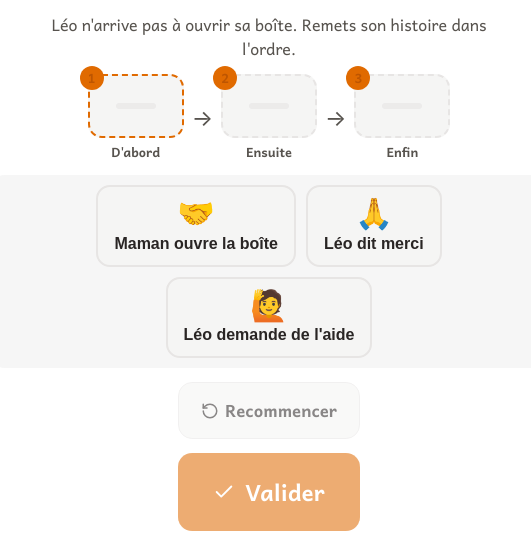
Test: <RemiseEnOrdre> › 5 : Valider reste desactive tant qu'une case est vide
The width and height of the screenshot is (531, 548).
Expected: the button "Valider" is disabled, [178,453,360,531]
What coordinates should you click on to do the following:
click the button "🙋 Léo demande de l'aide"
I would click on:
 (269, 318)
Its box is [166,277,372,358].
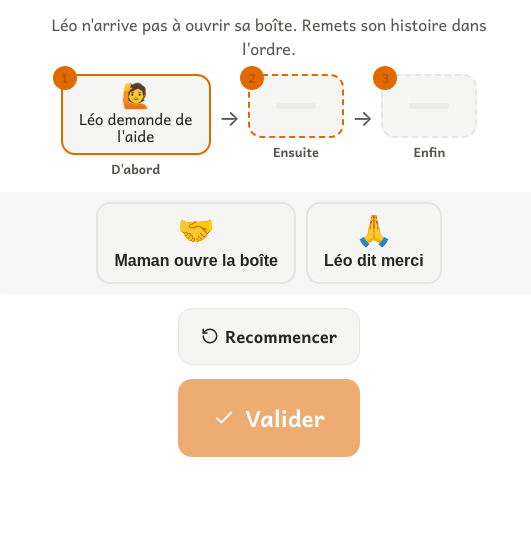
What coordinates should you click on to do the following:
click the button "🤝 Maman ouvre la boîte"
I would click on:
 (196, 243)
Its box is [96,202,296,284].
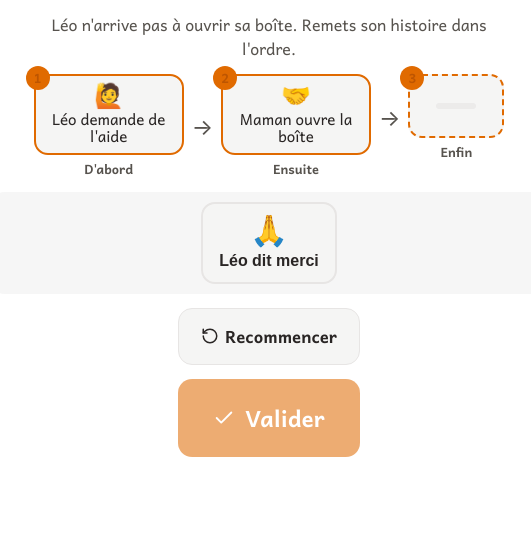
Expected: the button "Valider" is disabled, [178,379,360,457]
What coordinates should you click on to do the following:
click the button "🙏 Léo dit merci"
I would click on:
 (269, 243)
Its box is [201,202,337,284].
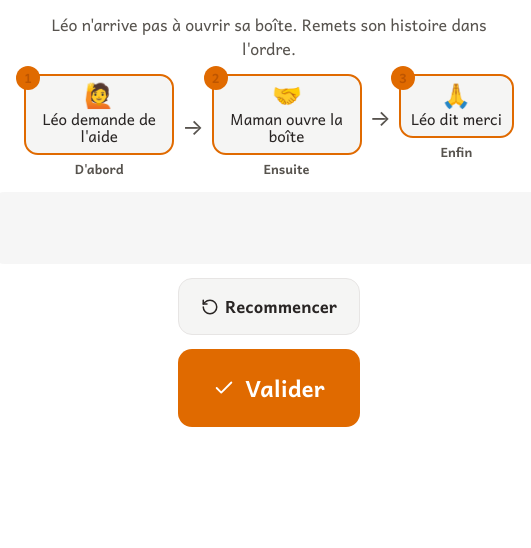
Expected: the button "Valider" is enabled, [178,349,360,427]
